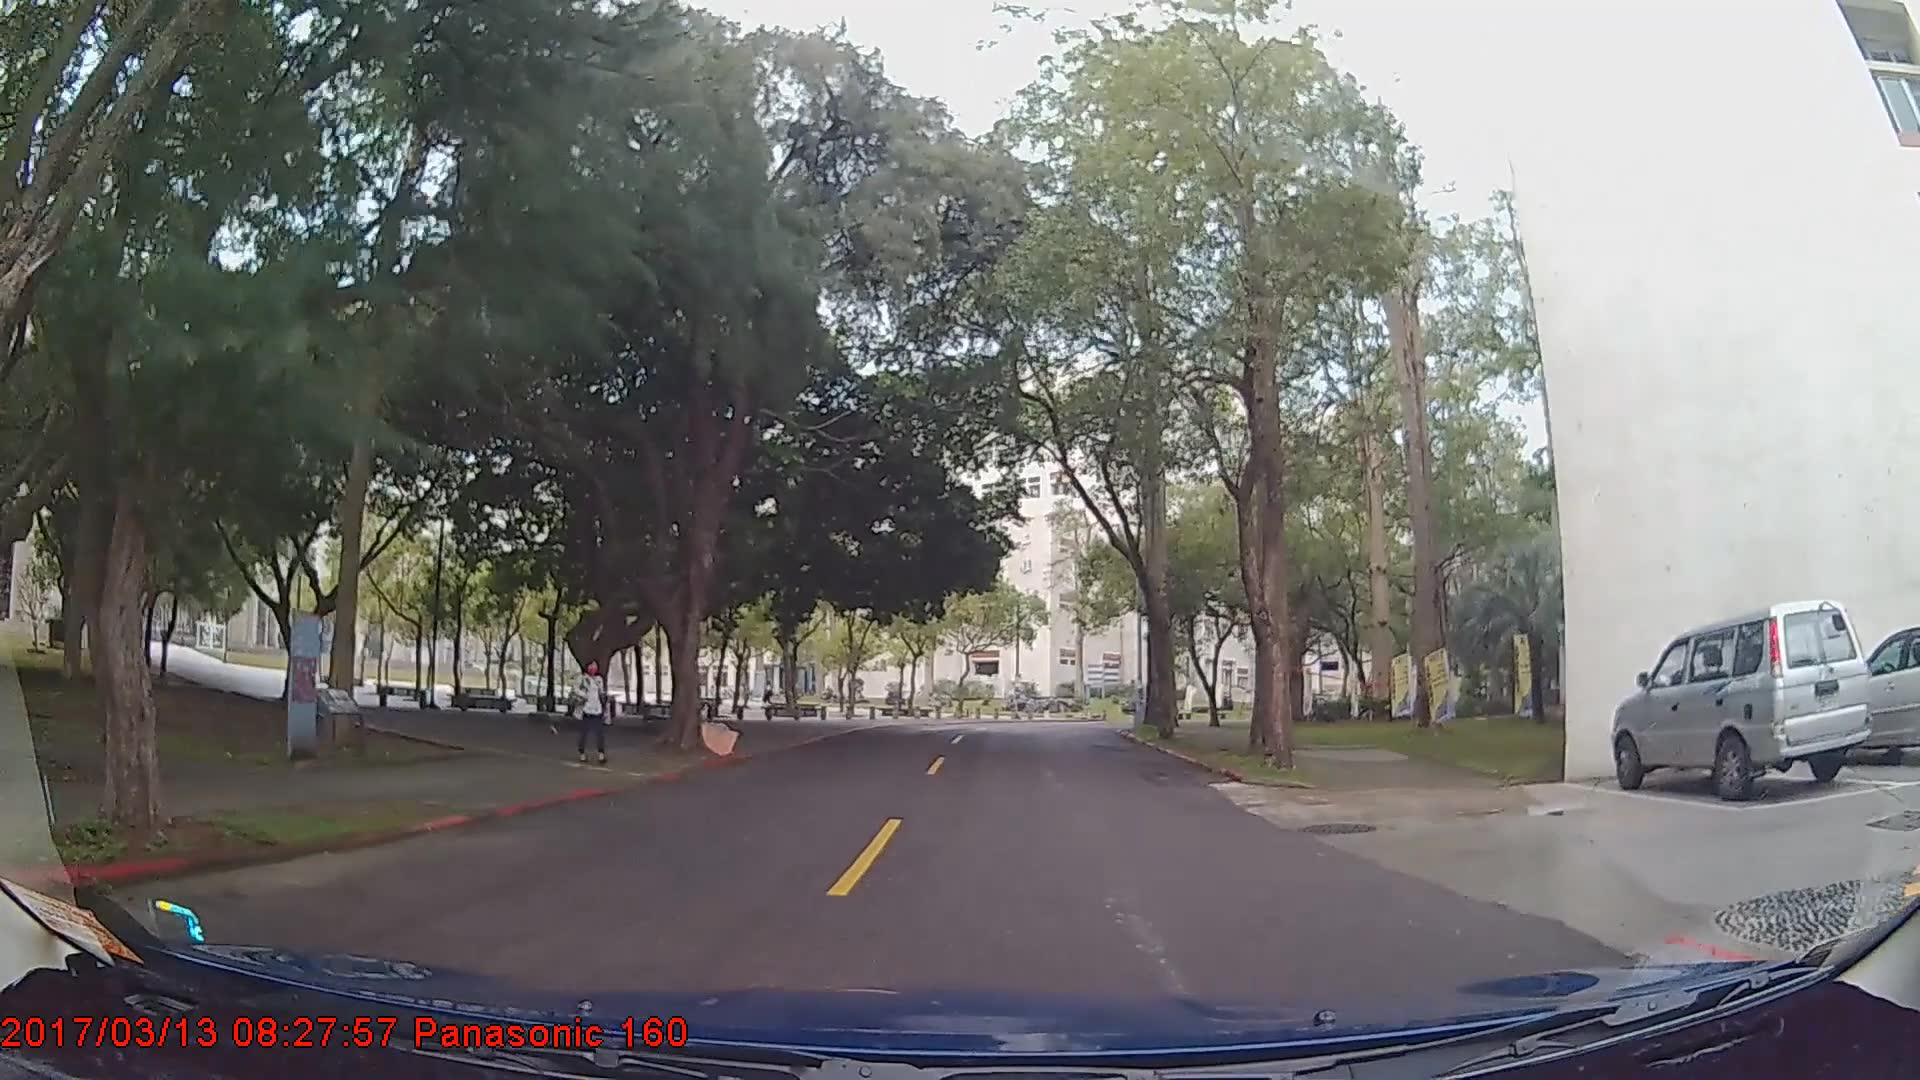pedestrian: (573, 661, 616, 763)
vehicle: (1612, 593, 1870, 795)
